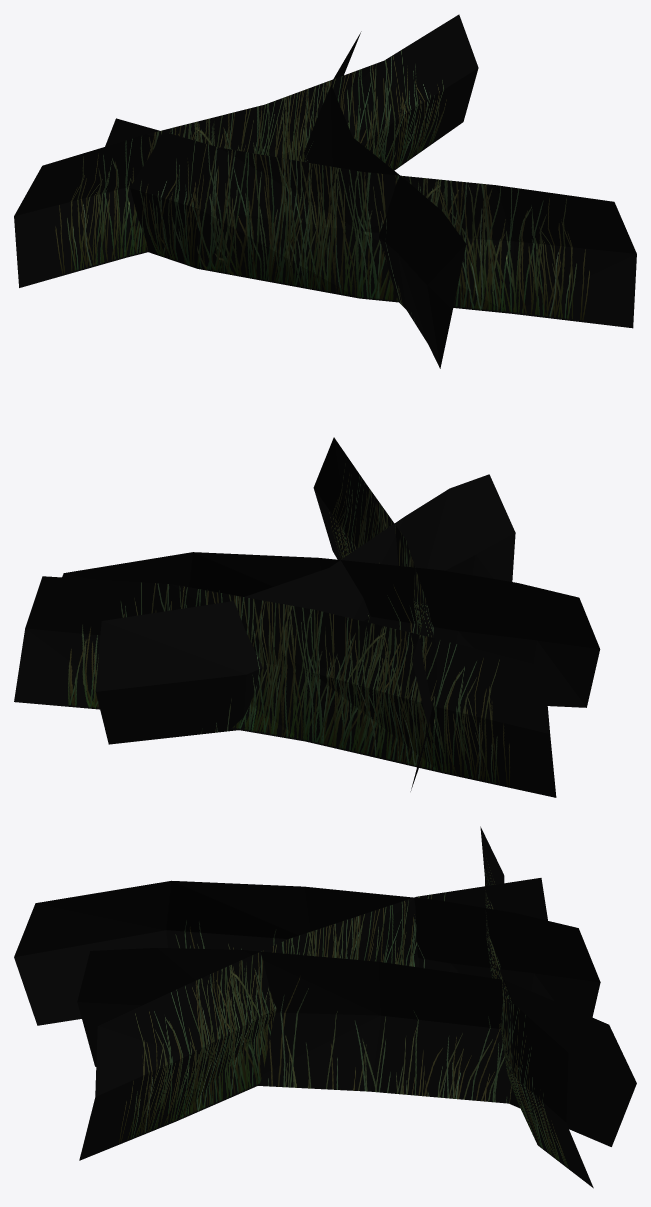
The model's file is grass.obj.
3 views of the same model, one above another, from view 1: azimuth 30°, elevation 25°; view 2: azimuth 150°, elevation 25°; view 3: azimuth 270°, elevation 25° (orthographic). The views are drawn at different scales.
Parts seen in each view (by area): view 1: grass_patch; view 2: grass_patch; view 3: grass_patch.
Part boxes in pixels (left/top/right/bottom): grass_patch: left=14, top=14, right=636, bottom=368; grass_patch: left=14, top=437, right=600, bottom=797; grass_patch: left=14, top=826, right=636, bottom=1188.
Bounding box in the file's own units: 1.88 × 0.4744 × 1.92.
Materials: 1 (1 with a texture image).
